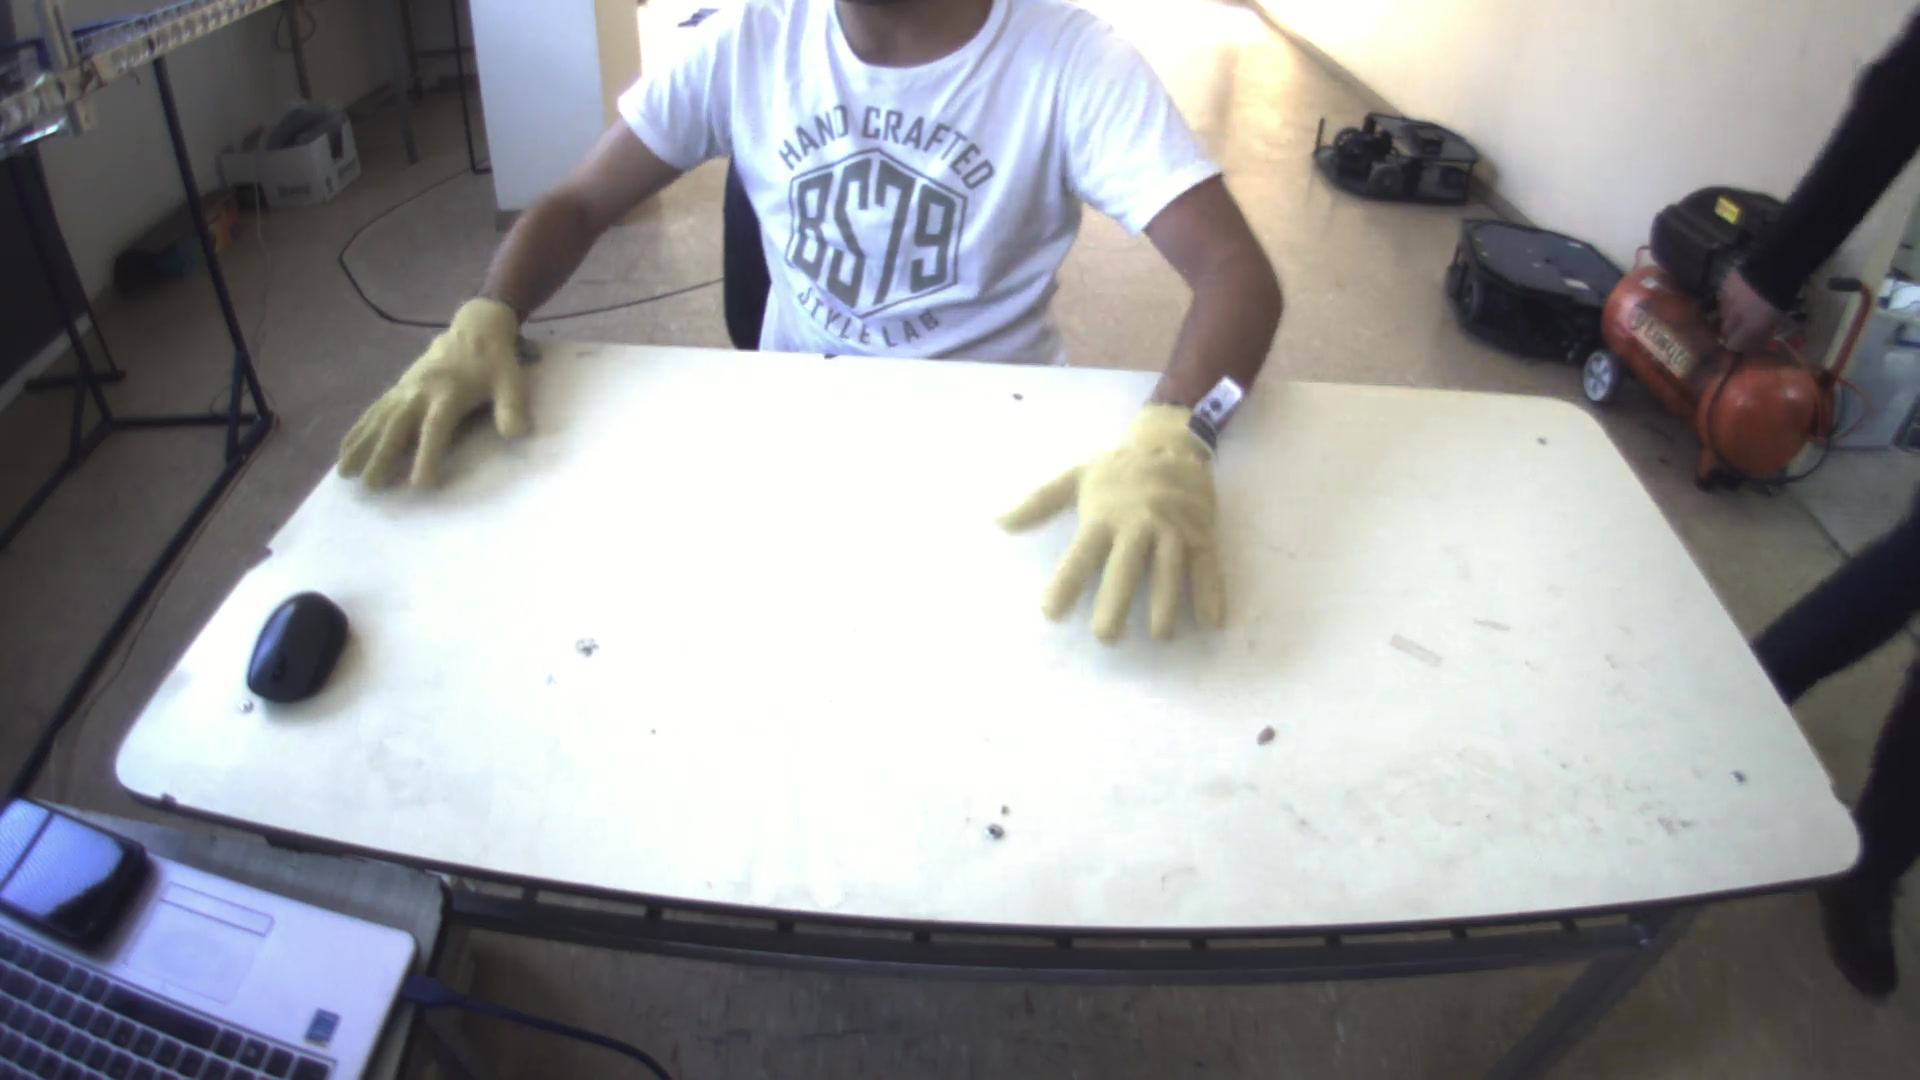hand: (990, 390, 1247, 647), (324, 287, 535, 497)
